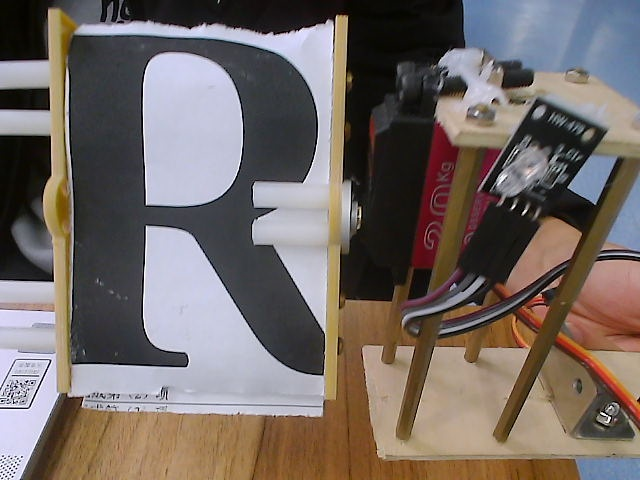R: (23, 5, 375, 430)
